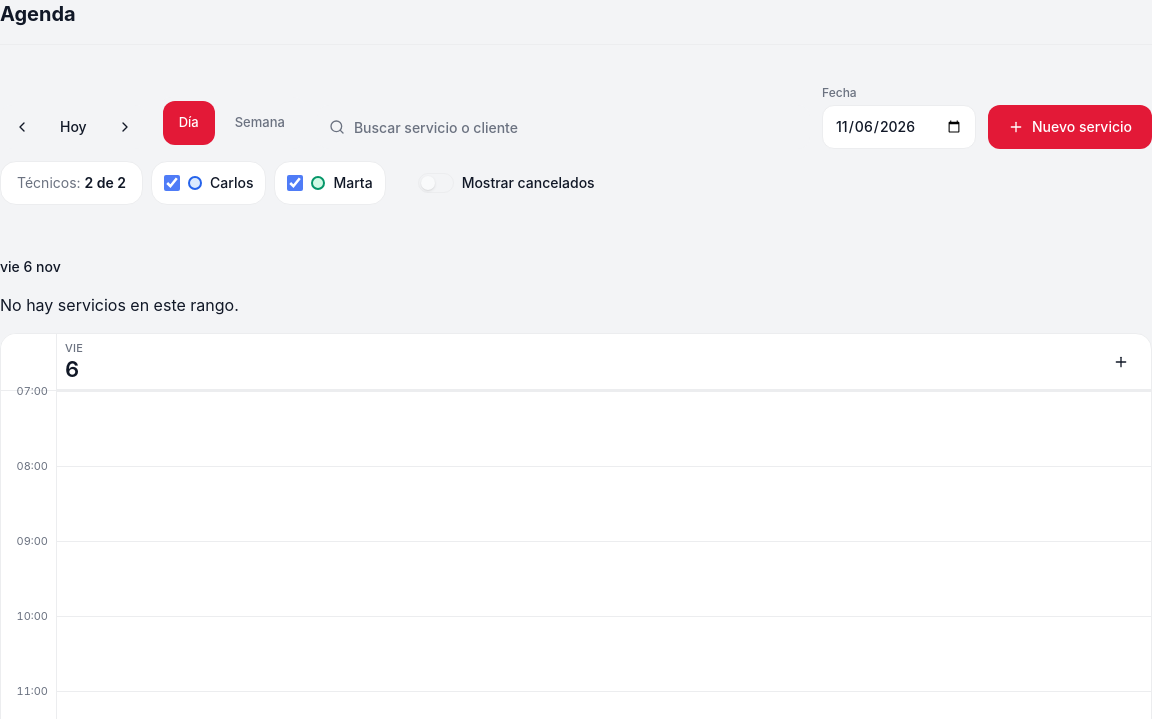
Scenario: AgendaPage: comandos y actualización de la agenda (UI-R4) › crea un servicio desde el botón del día y la agenda lo muestra
Click the button named "Nuevo servicio el vie 6 nov" at [1121, 362], box [1099, 340, 1143, 384]
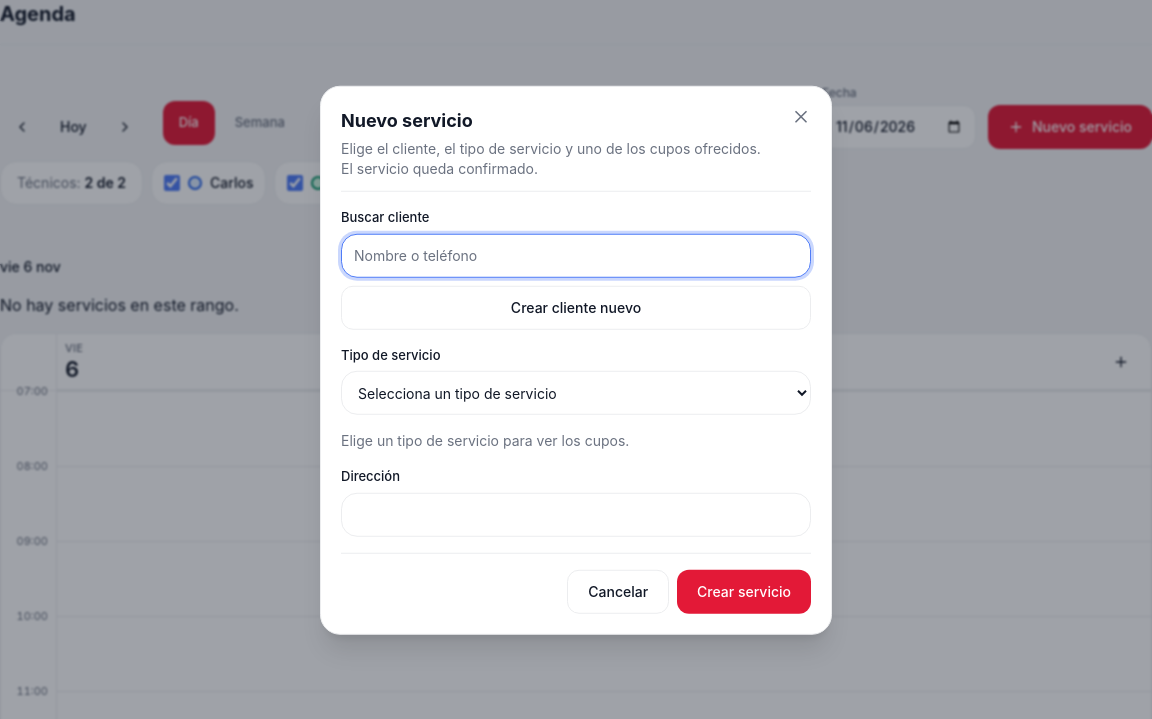
Type "Ana" into the search field labelled "Buscar cliente" at [576, 255], box [341, 233, 811, 277]
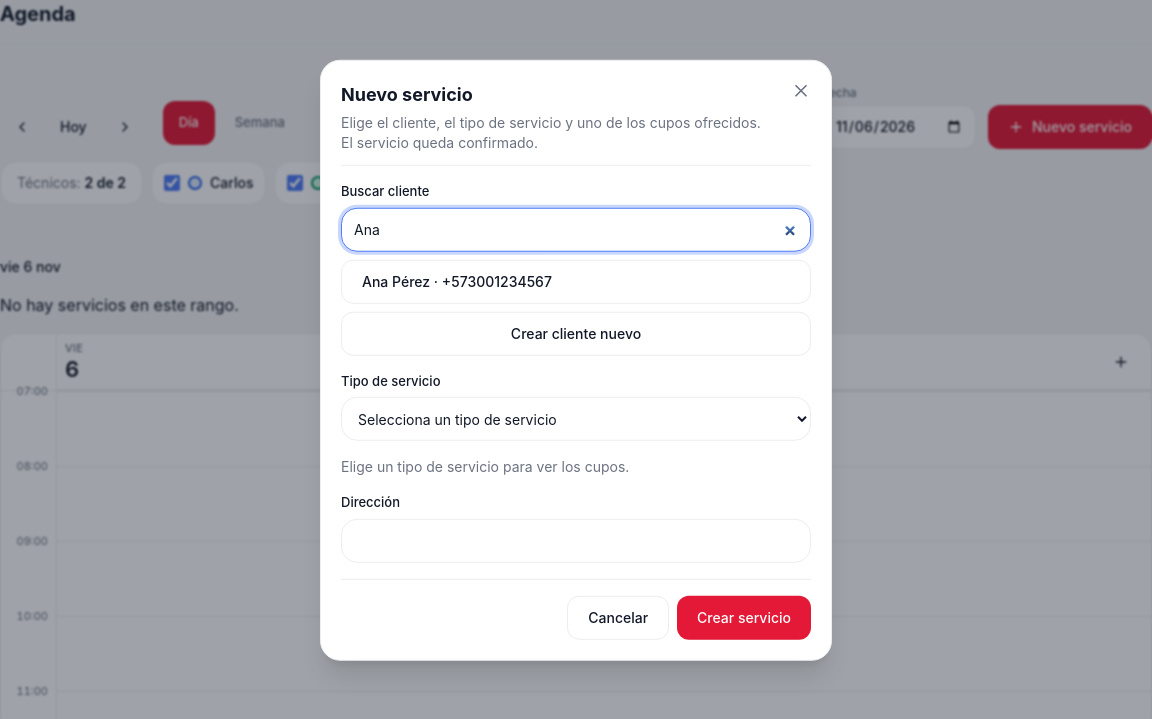
Click the button "Ana Pérez · +573001234567" at [396, 281], box [341, 259, 811, 303]
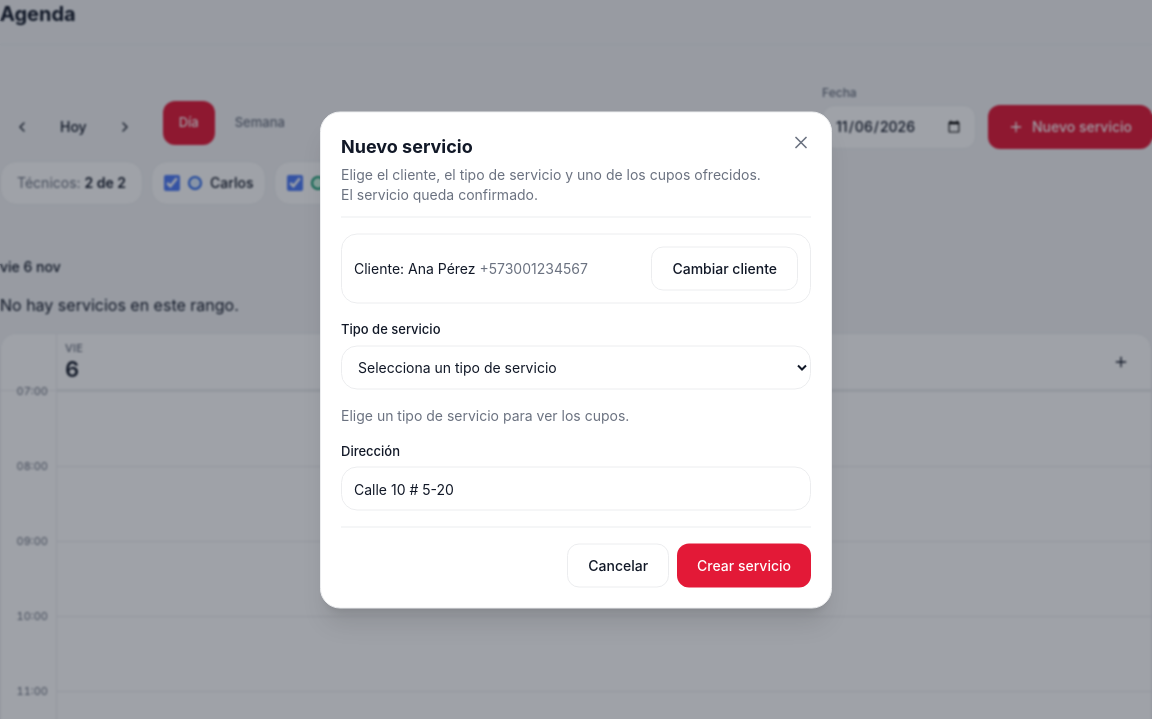
Select "Mantenimiento de aire" in the dropdown labelled "Tipo de servicio" at [576, 367], box [341, 345, 811, 389]
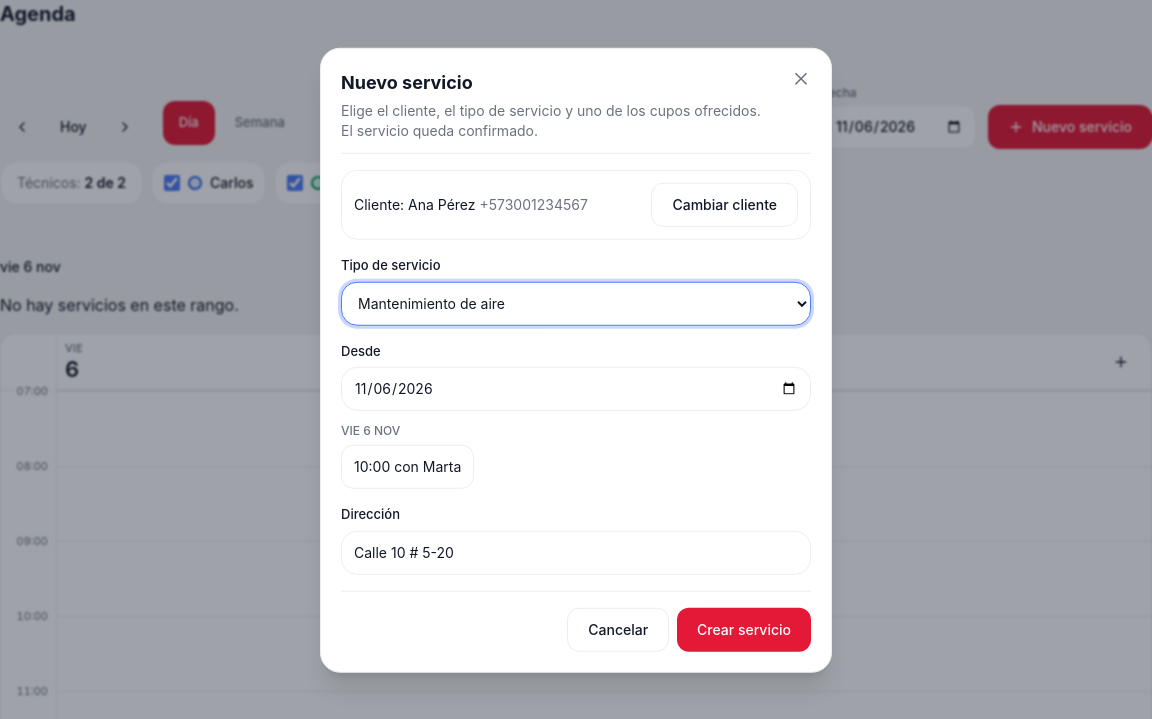
Click the radio button labelled "10:00 con Marta" at [408, 467], box [341, 445, 474, 489]
(page scrolled)
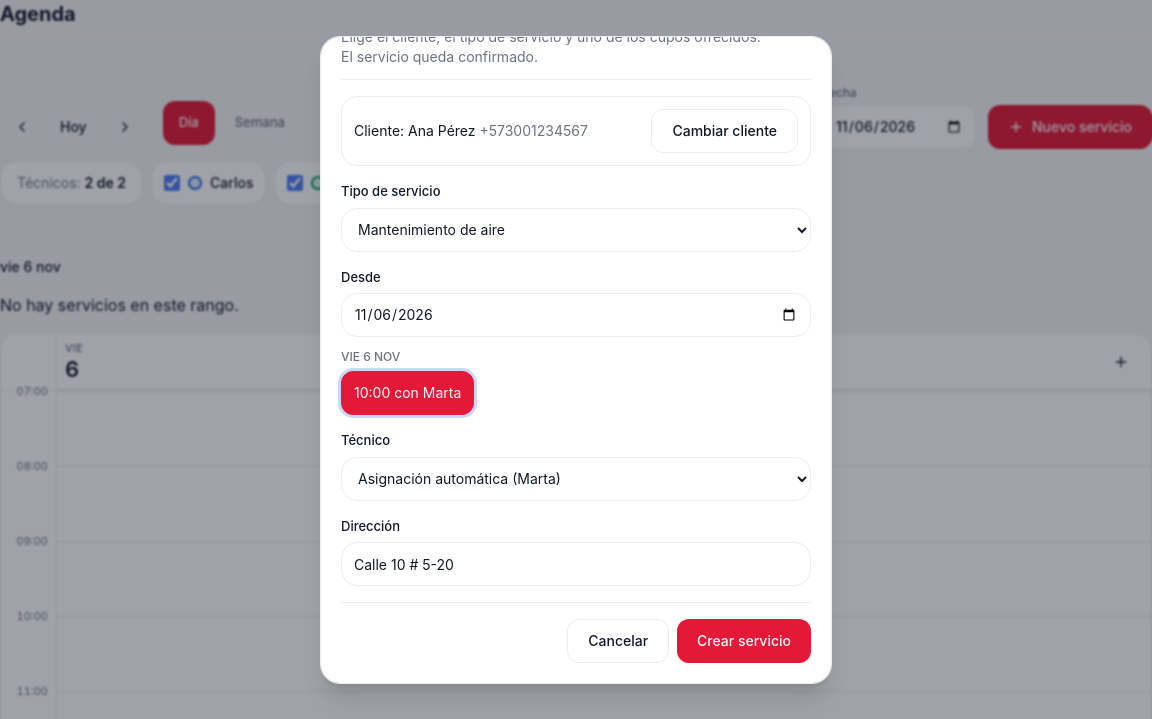
Click the button "Crear servicio" at [744, 641], box [677, 619, 811, 663]
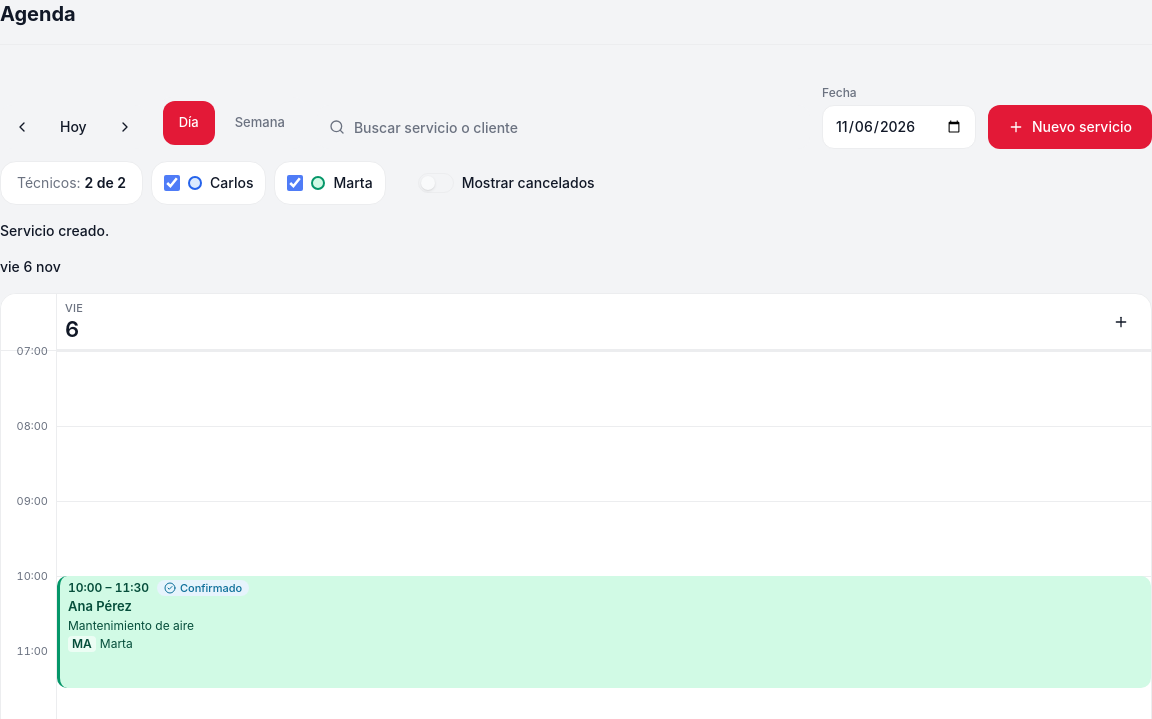
Expected: the text "Servicio creado." is shown, [0, 222, 109, 239]
Expected: the button with aria-label "10:00 a 11:30, Ana Pérez, Mantenimiento de aire, técnico Mar" is shown, [57, 576, 1151, 688]
Expected: the dialog is gone
